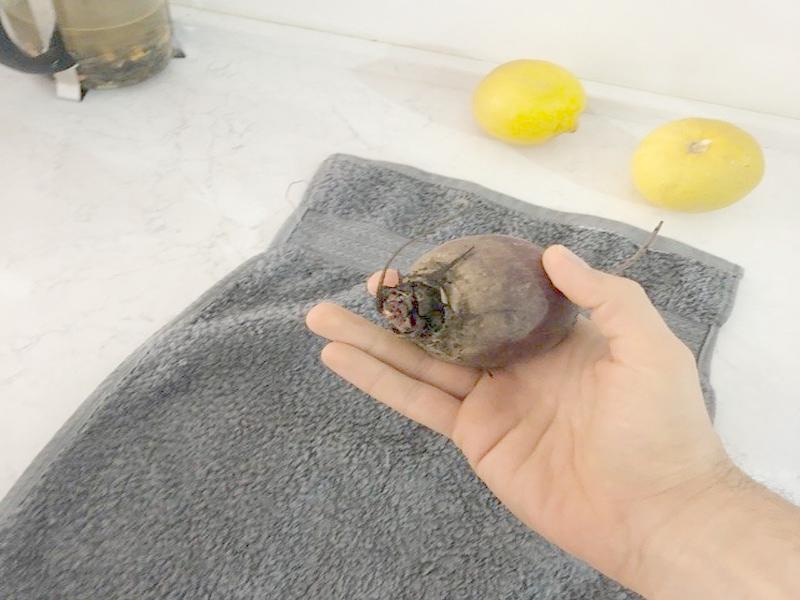Beet: (376, 220, 664, 368)
